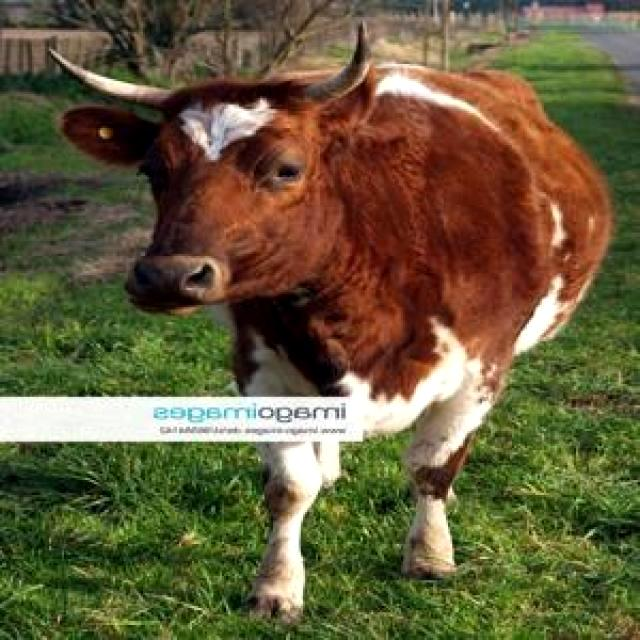COW: (59, 28, 612, 578), (251, 435, 341, 619)
